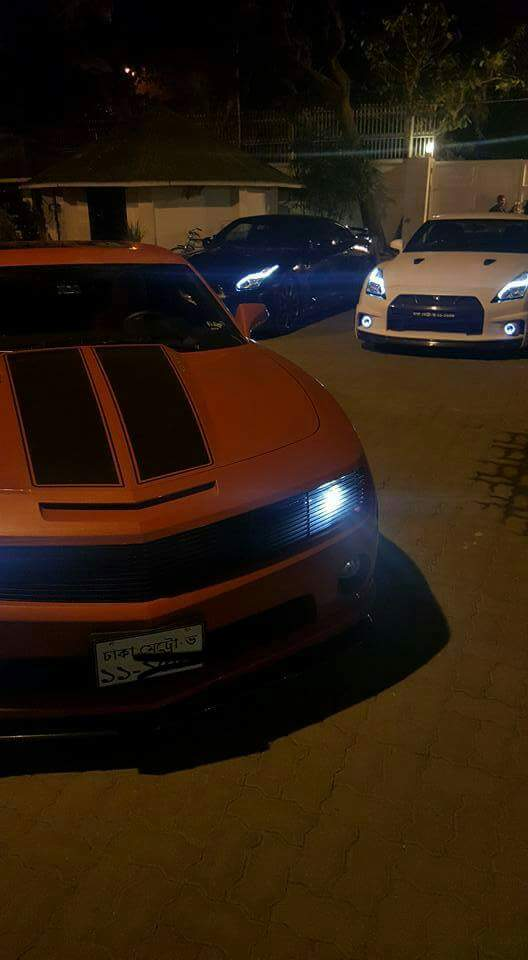registration_plate: (95, 623, 206, 688)
